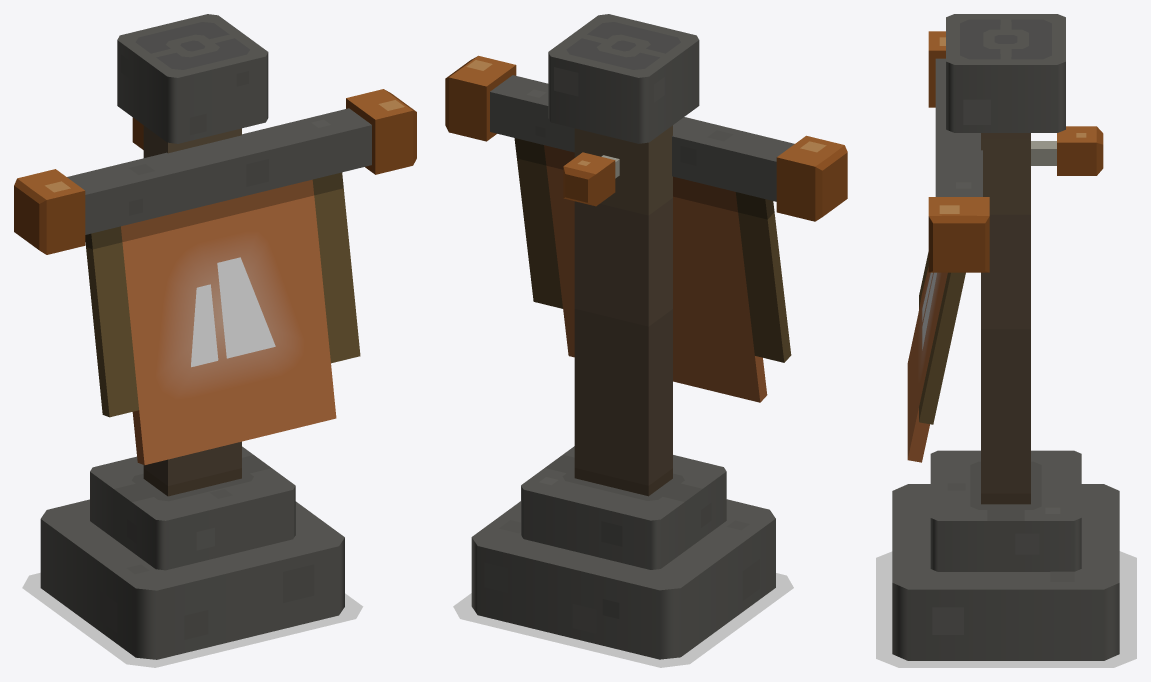
Rendered from MG_typeBanner_groundtype_02.fbx.
3 views of the same model, side by side, from view 1: azimuth 30°, elevation 25°; view 2: azimuth 150°, elevation 25°; view 3: azimuth 270°, elevation 25° (orthographic). The views are drawn at different scales.
Visible parts, largest first — view 1: polySurface6, polySurface5, ground; view 2: polySurface6, polySurface5, ground; view 3: polySurface6, polySurface5, ground.
Part boxes in pixels (x1=…): polySurface6: x1=14, y1=14, x2=416, y2=659; polySurface5: x1=85, y1=172, x2=360, y2=465; ground: x1=22, y1=572, x2=363, y2=667; polySurface6: x1=445, y1=14, x2=847, y2=659; polySurface5: x1=514, y1=138, x2=791, y2=402; ground: x1=453, y1=573, x2=793, y2=667; polySurface6: x1=892, y1=14, x2=1119, y2=660; polySurface5: x1=907, y1=252, x2=965, y2=462; ground: x1=876, y1=551, x2=1136, y2=667.
Size of the model in its own units: 5.12 by 7.14 by 2.97.
